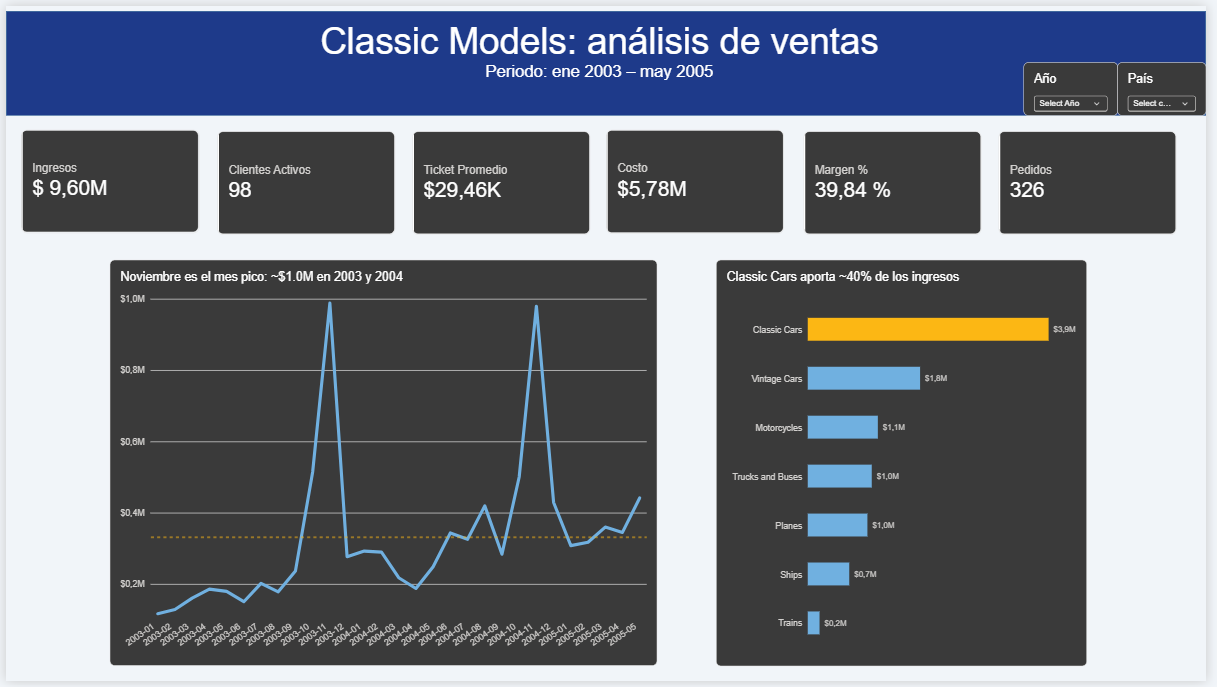

The page's visual inventory and layout, read from the dashboard file:
{"tool":"powerbi","page":{"name":"Page 1","canvas":[1920,1080],"ordinal":0},"visuals":[{"type":"shape","box":[0,7.5,1920,167.5],"z":0},{"type":"cardVisual","fields":{"Data":["Medidas.Clientes Activos"]},"box":[337.3,199.3,285,166],"z":1000},{"type":"cardVisual","fields":{"Data":["Medidas.Margen %"]},"box":[1275.3,199.3,285,166],"z":3000},{"type":"cardVisual","fields":{"Data":["Medidas.Pedidos"]},"box":[1588,199.3,285,166],"z":4000},{"type":"cardVisual","fields":{"Data":["Medidas.Ticket Promedio"]},"box":[650,199.3,285,166],"z":5000},{"type":"cardVisual","fields":{"Data":["Medidas.Costo"]},"box":[960.7,198.8,285,166],"z":6000},{"type":"lineChart","title":"Noviembre es el mes pico: ~$1.0M en 2003 y 2004","fields":{"Category":["Calendario.AñoMes"],"Y":["Medidas.Ingresos"]},"box":[166.7,407,876.1,649.7],"z":7000},{"type":"clusteredBarChart","title":"Classic Cars aporta ~40% de los ingresos","fields":{"Category":["productlines.productLine"],"Y":["Medidas.Ingresos"]},"box":[1136.7,406.7,593.3,650],"z":8000},{"type":"textbox","box":[26.7,6.7,1846.7,166.7],"z":9000},{"type":"listSlicer","fields":{"Values":["Calendario.Año"]},"box":[1627.6,90,151.2,85.3],"z":10000},{"type":"listSlicer","title":"País","fields":{"Values":["customers.country"]},"box":[1777.9,90.2,142,85.3],"z":11000},{"type":"cardVisual","fields":{"Data":["Medidas.Ingresos"]},"box":[23.9,198.8,285.3,165.6],"z":11001}]}

Visuals, with their boxes in screenshot pixels (x1, y1, x2, y2), scaled from the page's 1920x1080 canvas onto the 1217x687 screenshot:
shape: l=0, t=5, r=1216, b=111
cardVisual - Medidas.Clientes Activos: l=214, t=127, r=394, b=232
cardVisual - Medidas.Margen %: l=808, t=127, r=989, b=232
cardVisual - Medidas.Pedidos: l=1007, t=127, r=1187, b=232
cardVisual - Medidas.Ticket Promedio: l=412, t=127, r=593, b=232
cardVisual - Medidas.Costo: l=609, t=126, r=790, b=232
"Noviembre es el mes pico: ~$1.0M en 2003 y 2004" lineChart: l=106, t=259, r=661, b=672
"Classic Cars aporta ~40% de los ingresos" clusteredBarChart: l=721, t=259, r=1097, b=672
textbox: l=17, t=4, r=1187, b=110
listSlicer - Calendario.Año: l=1032, t=57, r=1127, b=112
"País" listSlicer: l=1127, t=57, r=1216, b=112
cardVisual - Medidas.Ingresos: l=15, t=126, r=196, b=232
